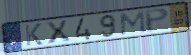4: (75, 17, 93, 41)
9: (98, 13, 118, 38)
K: (24, 22, 44, 47)
M: (119, 10, 147, 37)
P: (143, 7, 170, 34)
X: (44, 19, 73, 45)
